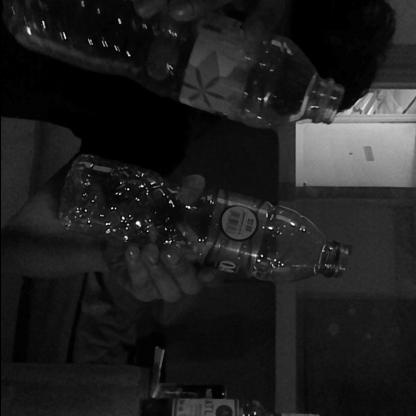plastic_bottles: (3, 0, 344, 129), (55, 154, 350, 284)
